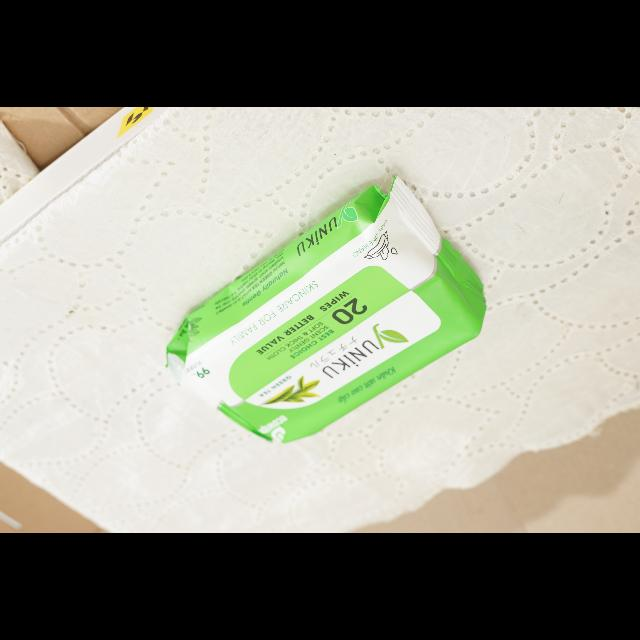khan_giay: (168, 177, 486, 443)
